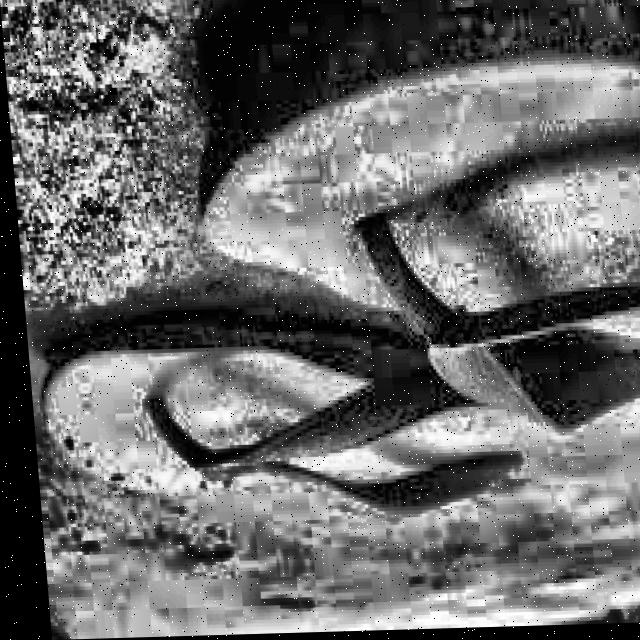shoes: (3, 13, 640, 566)
